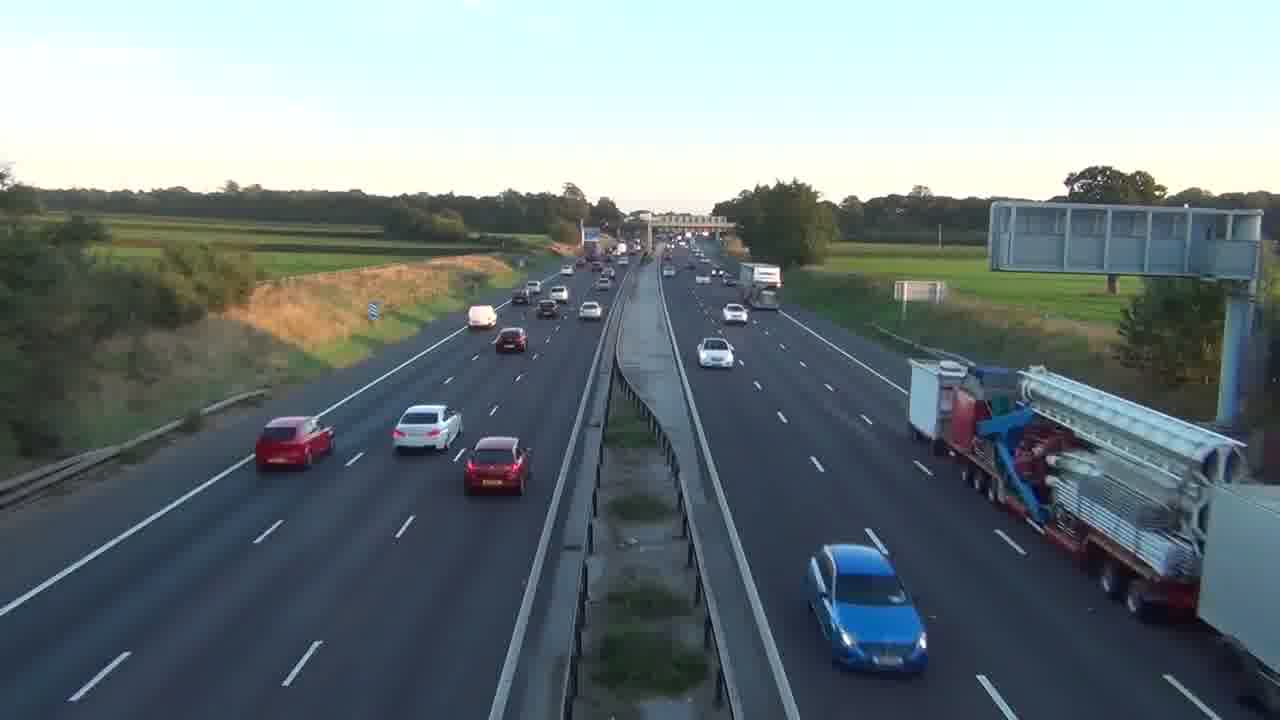car: (802, 528, 931, 676), (463, 434, 531, 496), (390, 402, 463, 454), (697, 336, 735, 368), (493, 326, 527, 355)
truck: (908, 355, 1279, 705), (254, 415, 335, 471), (467, 305, 497, 329)
